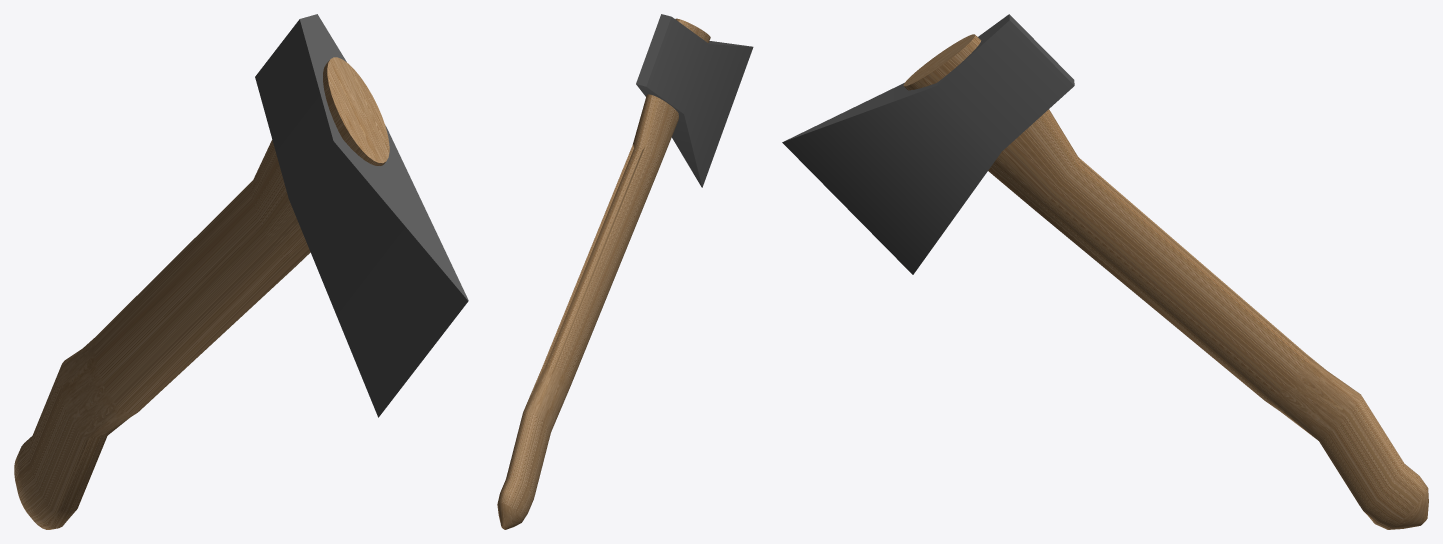
File: balta.fbx
3 renders of one model, left to right at view 1: azimuth 30°, elevation 25°; view 2: azimuth 150°, elevation 25°; view 3: azimuth 270°, elevation 25°, orthographic. The views are drawn at different scales.
Visible parts, largest first — view 1: Cylinder, Plane; view 2: Cylinder, Plane; view 3: Cylinder, Plane.
Part boxes in pixels (bbox=[...]): Cylinder: bbox=[14, 57, 389, 529]; Plane: bbox=[255, 14, 468, 417]; Cylinder: bbox=[497, 18, 710, 529]; Plane: bbox=[636, 14, 753, 187]; Cylinder: bbox=[903, 34, 1428, 529]; Plane: bbox=[782, 14, 1074, 274].
Size of the model in its own units: 18.45 by 232 by 266.
Materials: 2 (1 with a texture image).
